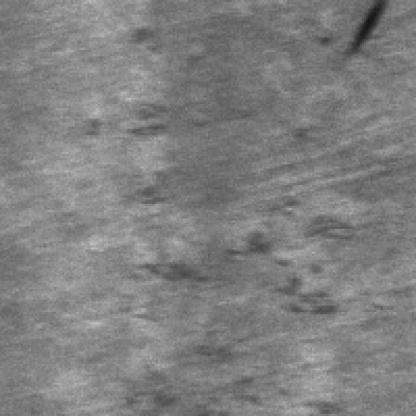rolled-in_scale: (89, 177, 356, 329), (74, 20, 200, 200)
